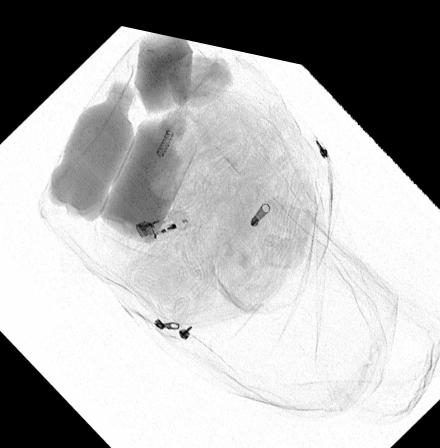Lighter: (135, 198, 190, 237)
